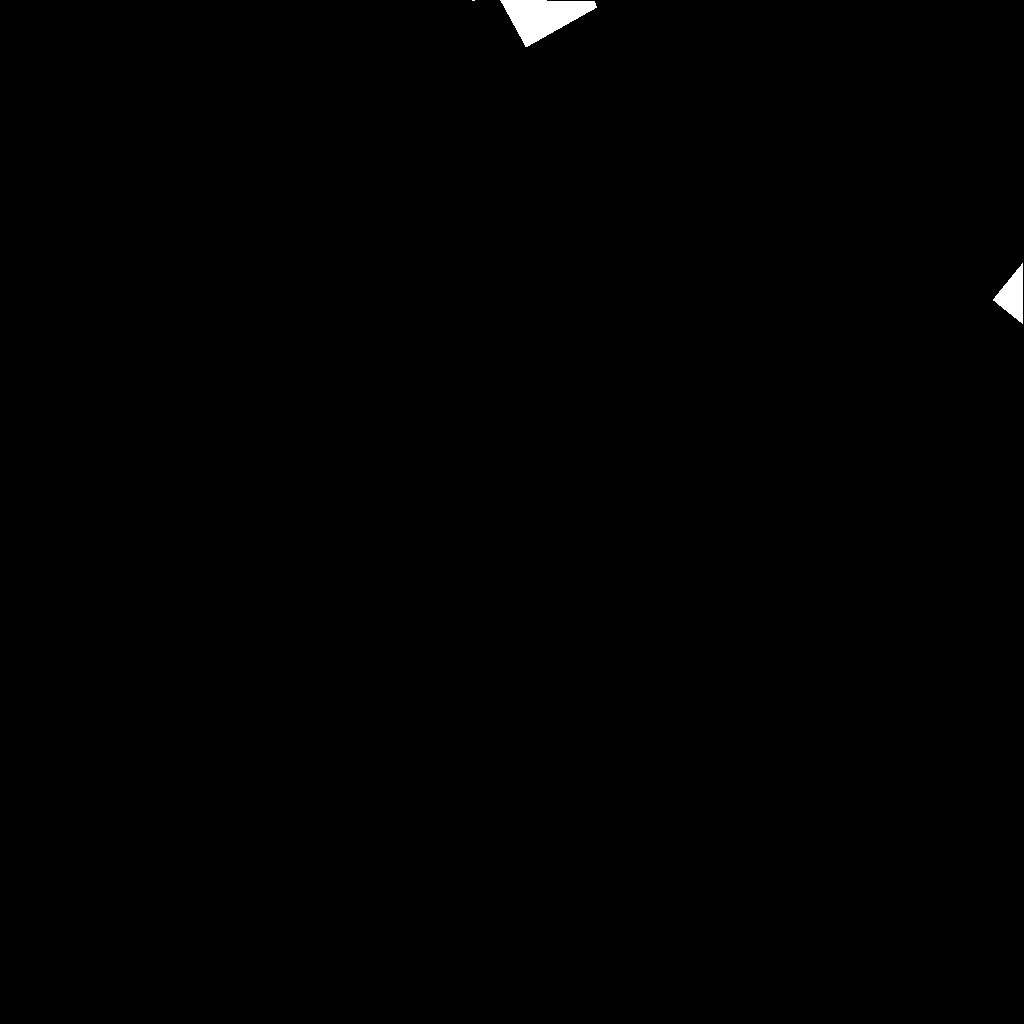building: (472, 0, 598, 48), (993, 263, 1024, 325)
